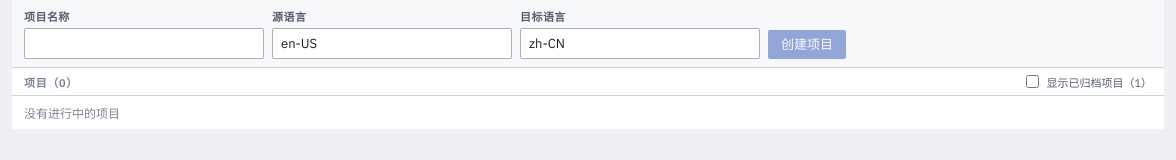
Test case: ProjectsView › explains an all-archived list instead of showing an empty page
The image size is (1176, 160).
Expected: the text "没有进行中的项目" is shown, [24, 106, 120, 121]
Click the checkbox labelled "显示已归档项目（1）".
click(1033, 82)  # box [1026, 75, 1039, 88]
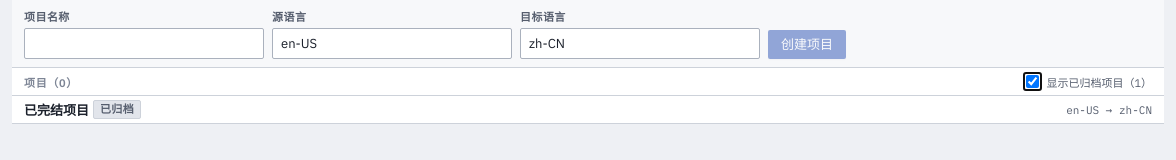
Result: the text "已完结项目" is shown at [24, 102, 89, 119]
